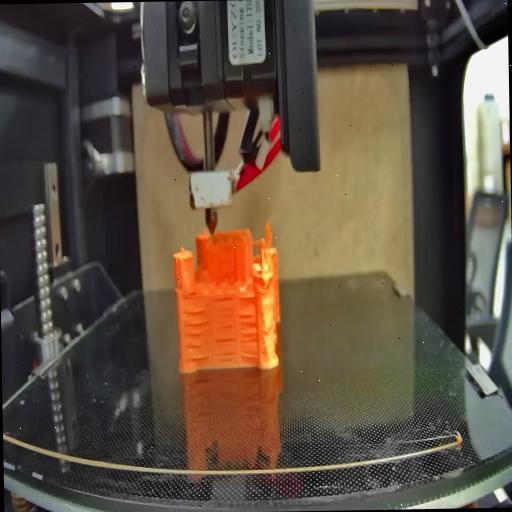cracks: (184, 308, 212, 360), (238, 312, 258, 358), (213, 295, 237, 329), (214, 334, 238, 362), (186, 285, 200, 299), (238, 295, 256, 302)
